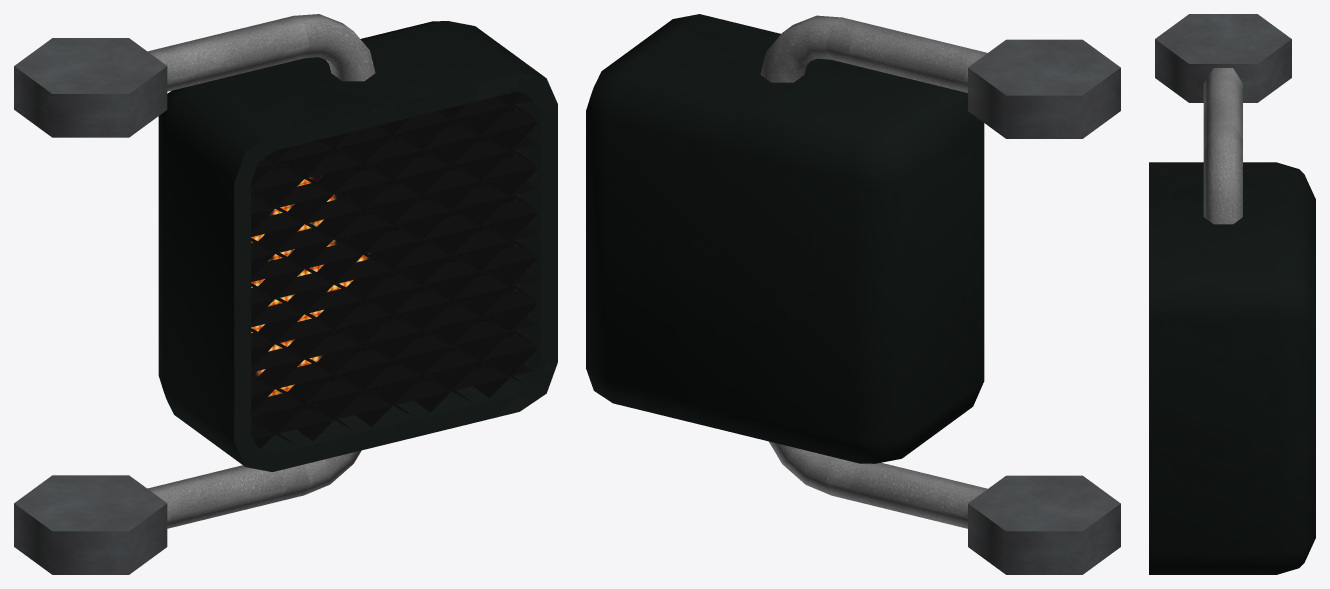
File: crosswalk_signal_right.glb
3 renders of one model, left to right at view 1: azimuth 30°, elevation 25°; view 2: azimuth 150°, elevation 25°; view 3: azimuth 270°, elevation 25°, orthographic. The views are drawn at different scales.
Parts seen in each view (by area): view 1: Signal, Mount Ring Bottom, Mount Ring Top, Mount Top, Mount Bottom, Grid Part.013, Grid Part.019, Grid Part.014, Grid Part.020, Grid Part.015, Grid Part.007, Grid Part.001 (+19 smaller); view 2: Signal, Mount Ring Bottom, Mount Ring Top, Mount Top, Mount Bottom; view 3: Signal, Mount Ring Top, Mount Top.
Boxes of the visible parts, x1,y1,x2,y2 form: Signal: [158, 21, 557, 471]; Mount Ring Bottom: [14, 475, 167, 574]; Mount Ring Top: [14, 38, 167, 137]; Mount Top: [148, 14, 375, 91]; Mount Bottom: [147, 450, 361, 528]; Grid Part.013: [251, 122, 537, 412]; Grid Part.019: [254, 167, 537, 448]; Grid Part.014: [251, 92, 522, 367]; Grid Part.020: [296, 213, 537, 441]; Grid Part.015: [251, 103, 467, 322]; Grid Part.007: [251, 245, 537, 327]; Grid Part.001: [251, 200, 536, 281]; Signal: [586, 14, 984, 463]; Mount Ring Bottom: [968, 475, 1120, 574]; Mount Ring Top: [968, 39, 1120, 138]; Mount Top: [760, 15, 987, 92]; Mount Bottom: [769, 441, 987, 528]; Signal: [1149, 162, 1315, 574]; Mount Ring Top: [1155, 14, 1291, 102]; Mount Top: [1203, 68, 1242, 224].
Bounding box in the file's own units: 0.8957 × 0.8522 × 0.3.
5 materials, 4 textured.
